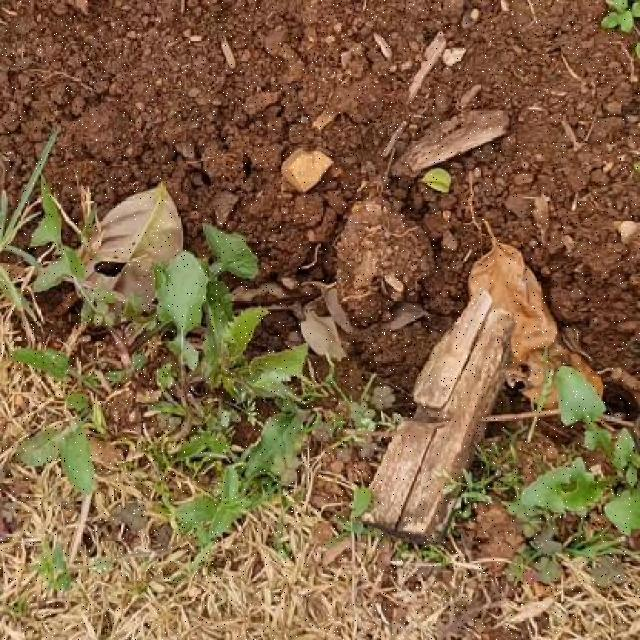weed: (145, 226, 308, 543), (512, 368, 640, 551), (17, 394, 91, 495), (31, 188, 68, 249), (14, 349, 71, 381), (178, 431, 231, 461)
